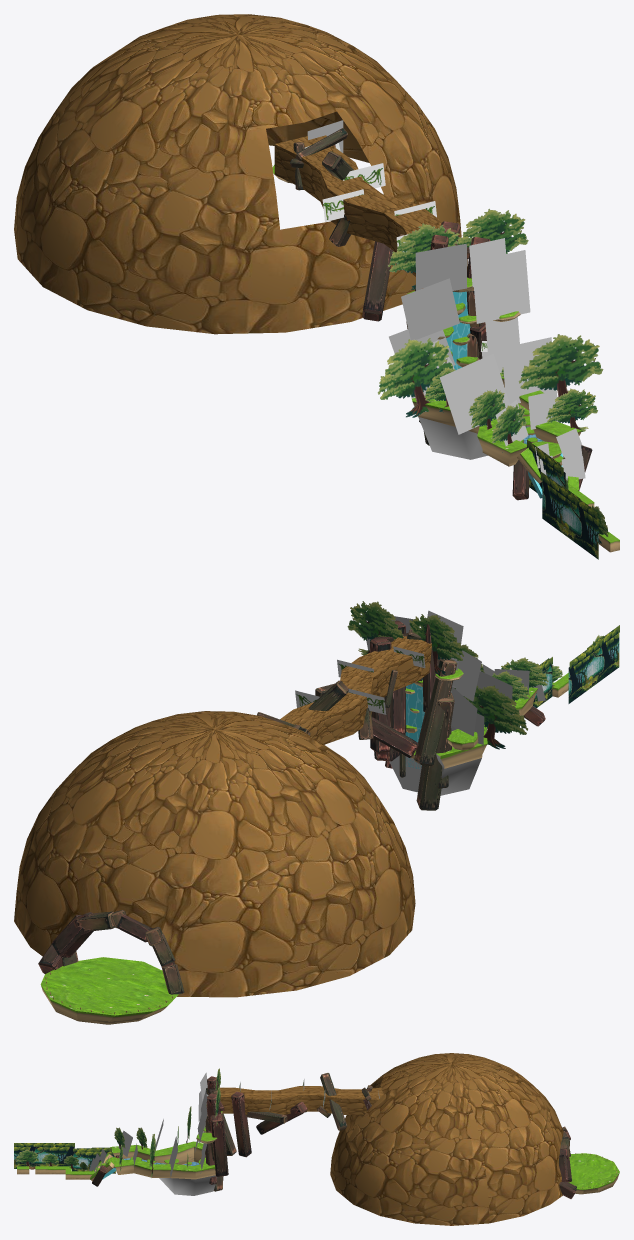
Rendered from MapLesson1_Edit.fbx.
3 renders of one model, top to bottom at view 1: azimuth 30°, elevation 25°; view 2: azimuth 150°, elevation 25°; view 3: azimuth 270°, elevation 25°, orthographic. The views are drawn at different scales.
Parts seen in each view (by area): view 1: pSphere1, pCube45, pCube41, pPlane55, pPlane56, pPlane45, pPlane64, pPlane66, pPlane1, pPlane67, pPlane69, pPlane48 (+9 smaller); view 2: pSphere1, pCylinder31, pCube45, pCube41, pPlane56, pCube61, pPlane1, pCube59, pPlane69, pPlane70, pCube68, pPlane66 (+7 smaller); view 3: pSphere1, pCube41, pCube45, pCylinder31, pCube66, pCube60, pPlane1, pCube70, pCube68, pPlane2, pCube69, pCube90 (+3 smaller).
Part boxes in pixels (box(x1,y1,x2,y2)): pSphere1: box(14, 14, 461, 334); pCube45: box(274, 135, 467, 276); pCube41: box(412, 373, 581, 466); pPlane55: box(518, 334, 603, 408); pPlane56: box(377, 338, 455, 417); pPlane45: box(439, 353, 509, 434); pPlane64: box(474, 250, 530, 323); pPlane66: box(401, 278, 459, 340); pPlane1: box(542, 481, 598, 559); pPlane67: box(415, 243, 467, 290); pPlane69: box(457, 208, 528, 253); pPlane48: box(501, 337, 554, 403); pSphere1: box(14, 711, 415, 997); pCylinder31: box(40, 957, 178, 1024); pCube45: box(280, 634, 431, 744); pCube41: box(389, 687, 537, 795); pPlane56: box(463, 685, 527, 749); pCube61: box(414, 658, 457, 765); pPlane1: box(568, 633, 619, 703); pCube59: box(416, 692, 454, 810); pPlane69: box(347, 601, 403, 655); pPlane70: box(409, 614, 463, 674); pCube68: box(371, 717, 418, 757); pPlane66: box(452, 650, 481, 701); pSphere1: box(330, 1053, 563, 1225); pCube41: box(110, 1141, 217, 1195); pCube45: box(220, 1086, 383, 1114); pCylinder31: box(569, 1153, 619, 1194); pCube66: box(231, 1091, 251, 1157); pCube60: box(210, 1114, 228, 1176); pPlane1: box(14, 1147, 74, 1168); pCube70: box(320, 1073, 347, 1130); pCube68: box(256, 1101, 307, 1134); pPlane2: box(72, 1151, 115, 1173); pCube69: box(245, 1111, 287, 1123); pCube90: box(559, 1154, 571, 1182).
Size of the model in its own units: 1000 by 596 by 2491.
